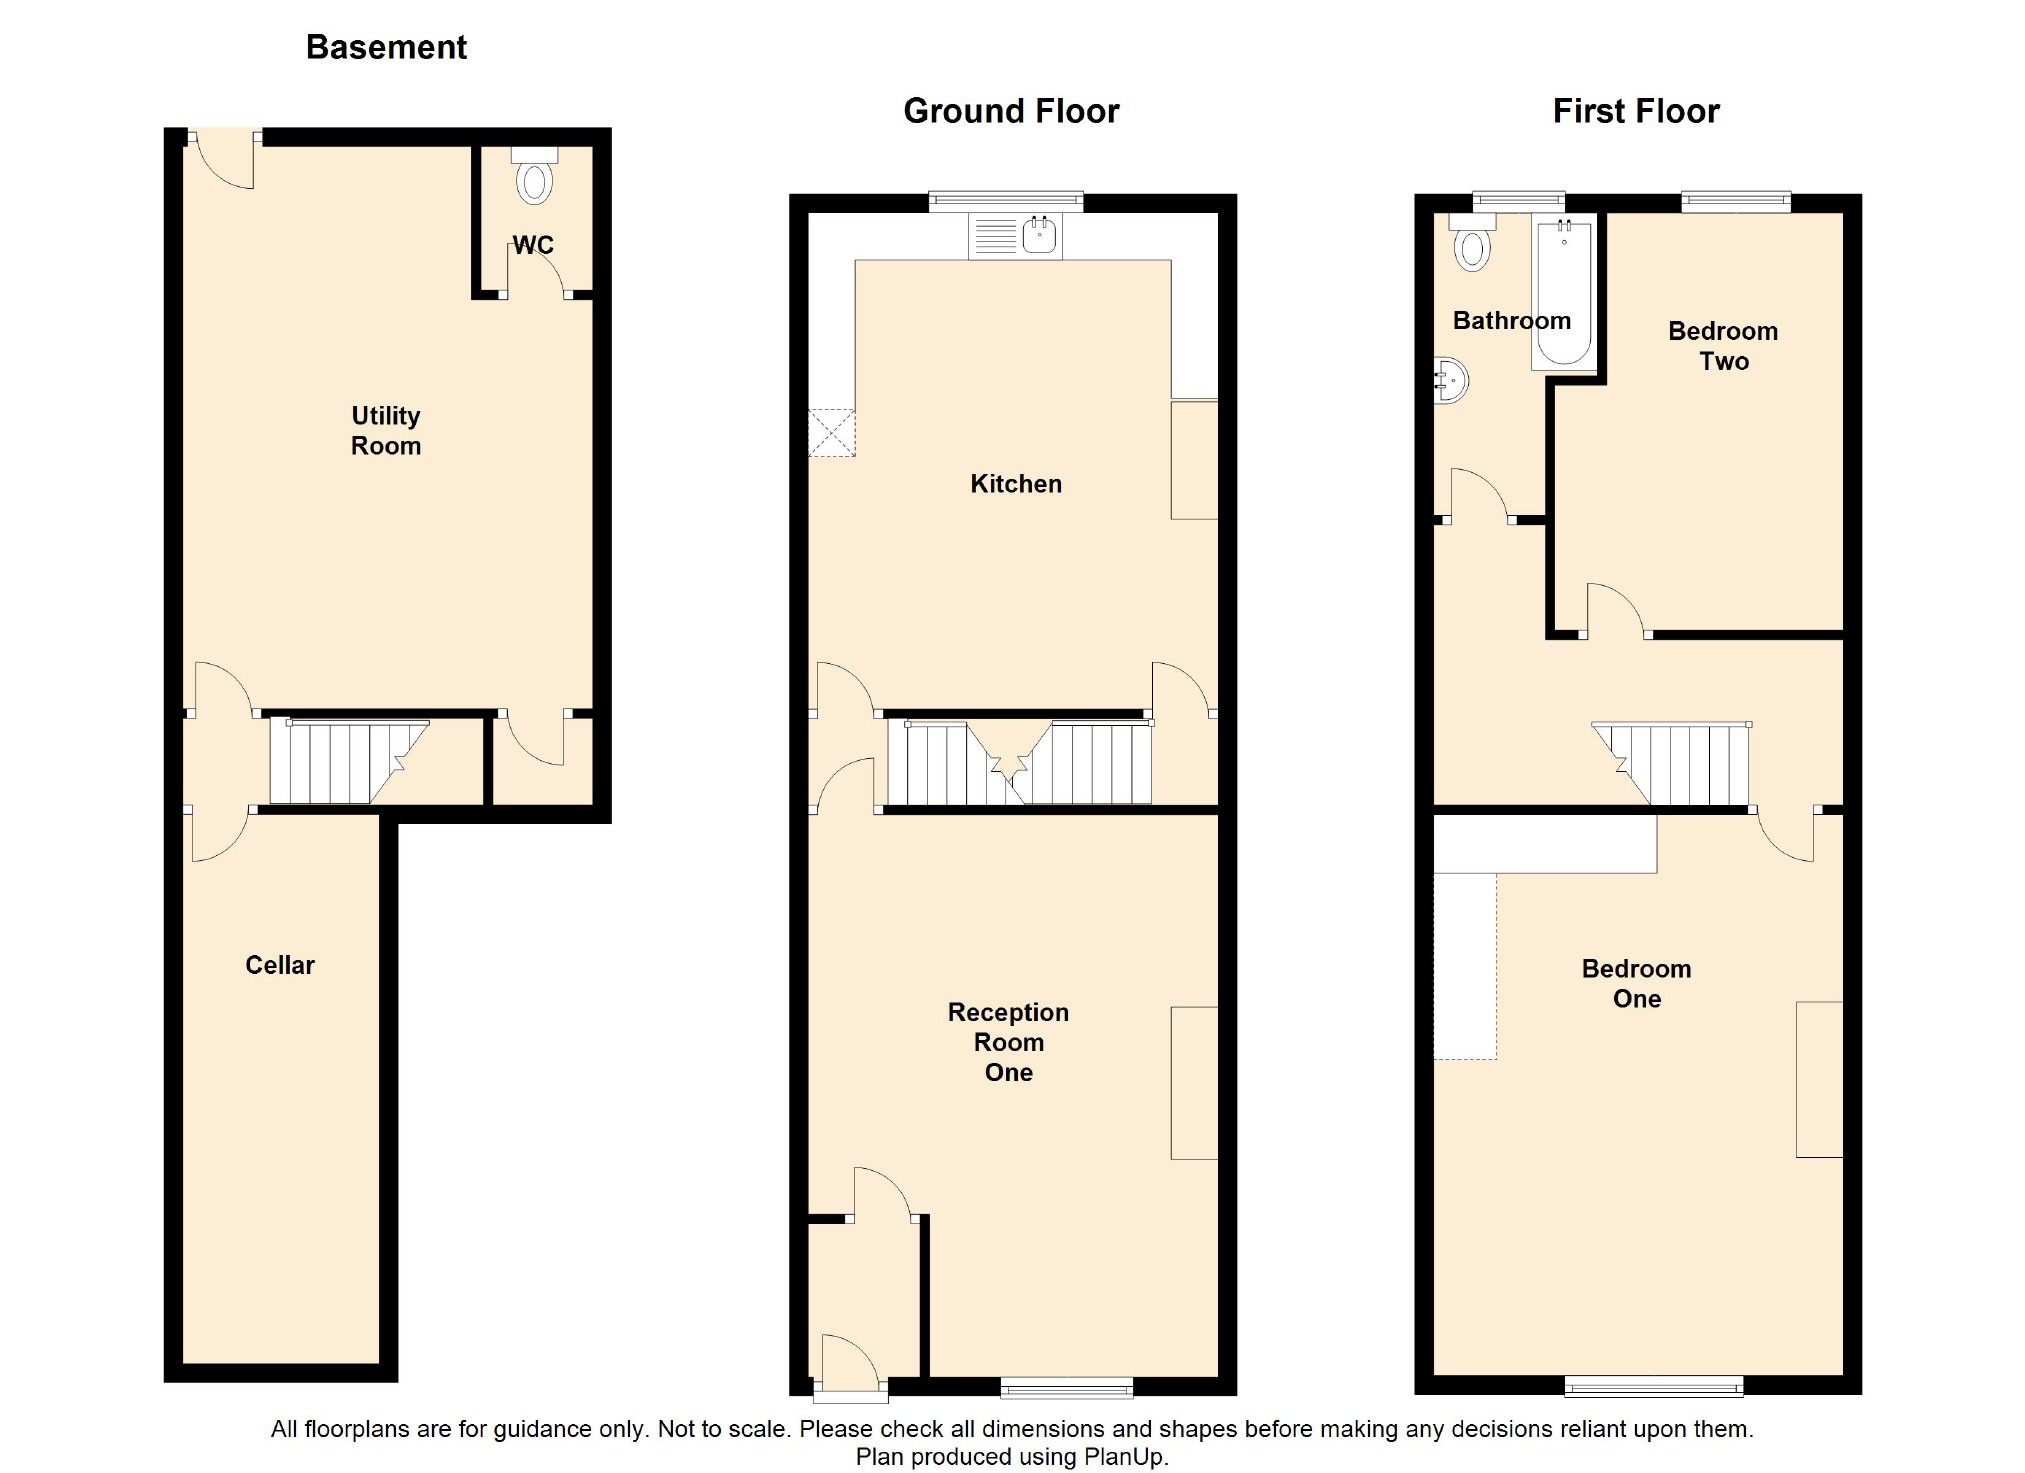door: (814, 1327, 887, 1382), (197, 141, 256, 206), (1572, 579, 1646, 630), (505, 722, 577, 772), (813, 656, 877, 711), (1145, 651, 1211, 704), (494, 239, 563, 289), (186, 814, 245, 869), (187, 656, 253, 704), (1445, 461, 1506, 512), (1758, 817, 1821, 868), (821, 755, 879, 803), (847, 1162, 906, 1209)
